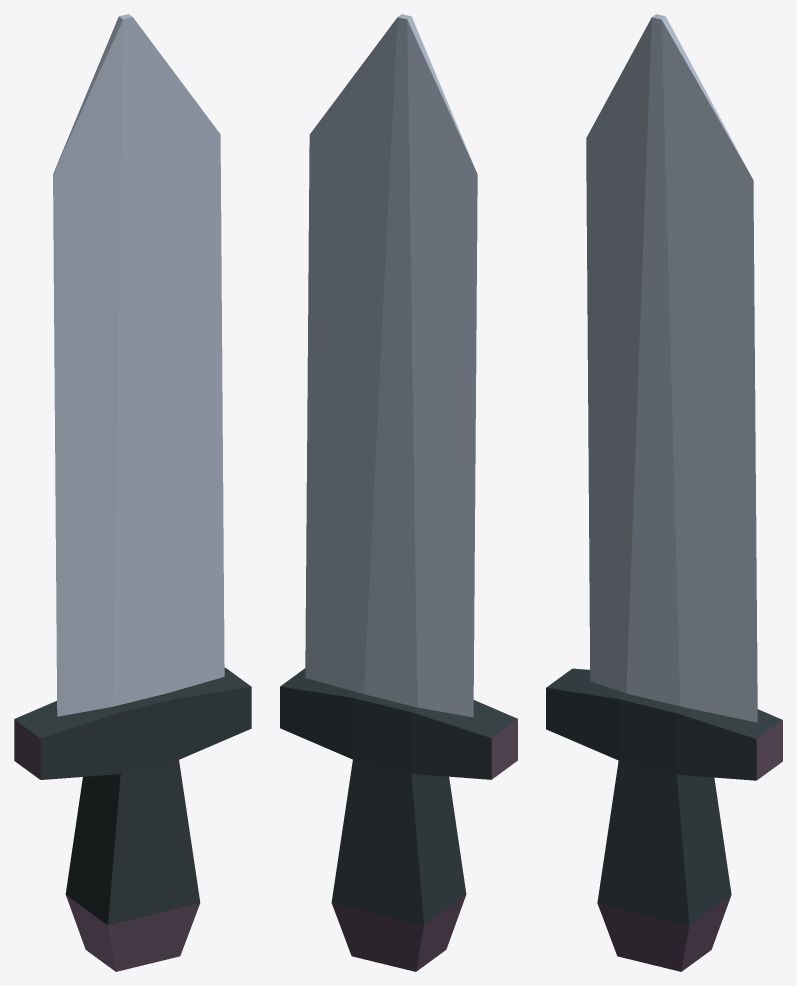
The model's file is sword.fbx.
3 views of the same model, side by side, from view 1: azimuth 30°, elevation 25°; view 2: azimuth 150°, elevation 25°; view 3: azimuth 330°, elevation 25° (orthographic).
Visible parts, largest first — view 1: Cube.001; view 2: Cube.001; view 3: Cube.001.
Part boxes in pixels (x1,y1,x2,y2): Cube.001: (14, 14, 251, 971); Cube.001: (280, 14, 517, 971); Cube.001: (546, 14, 782, 971).
Size of the model in its own units: 1.32 by 5.59 by 0.4574.
